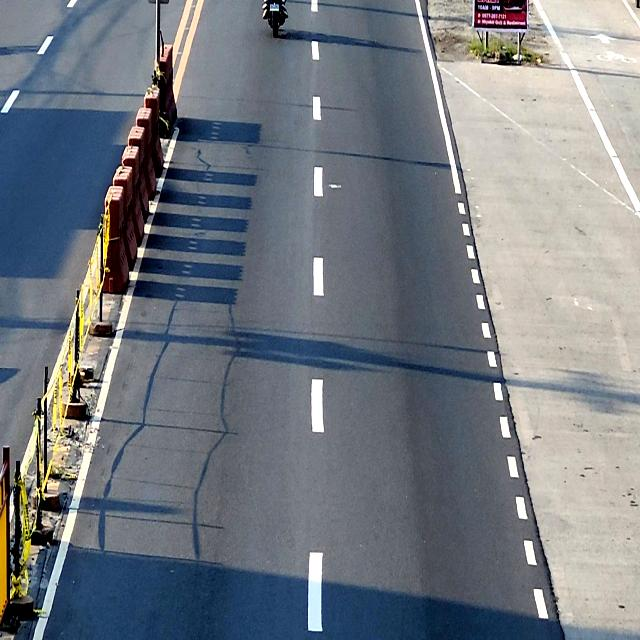License-Plate: (270, 3, 279, 12)
Motorcycle: (264, 0, 285, 38)
